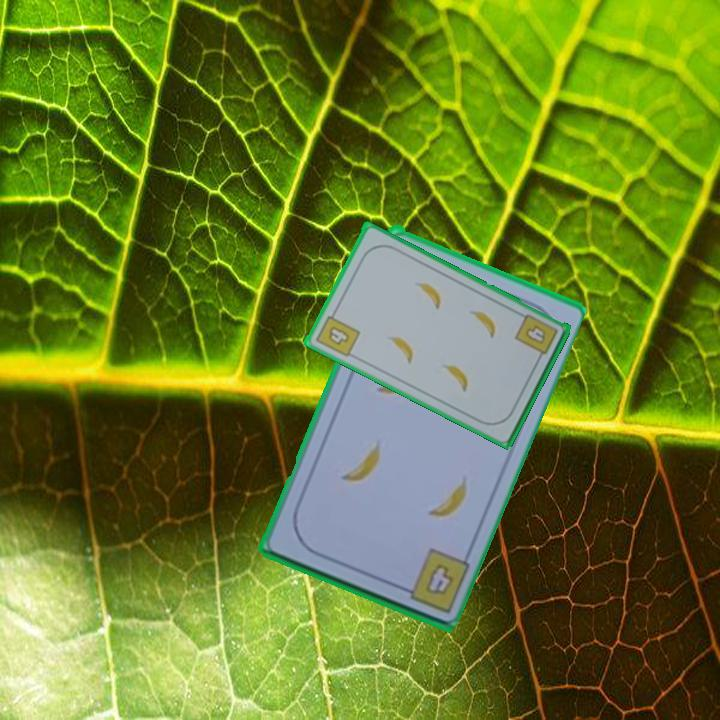4b: (312, 306, 362, 360), (511, 310, 561, 364), (421, 560, 456, 598)
